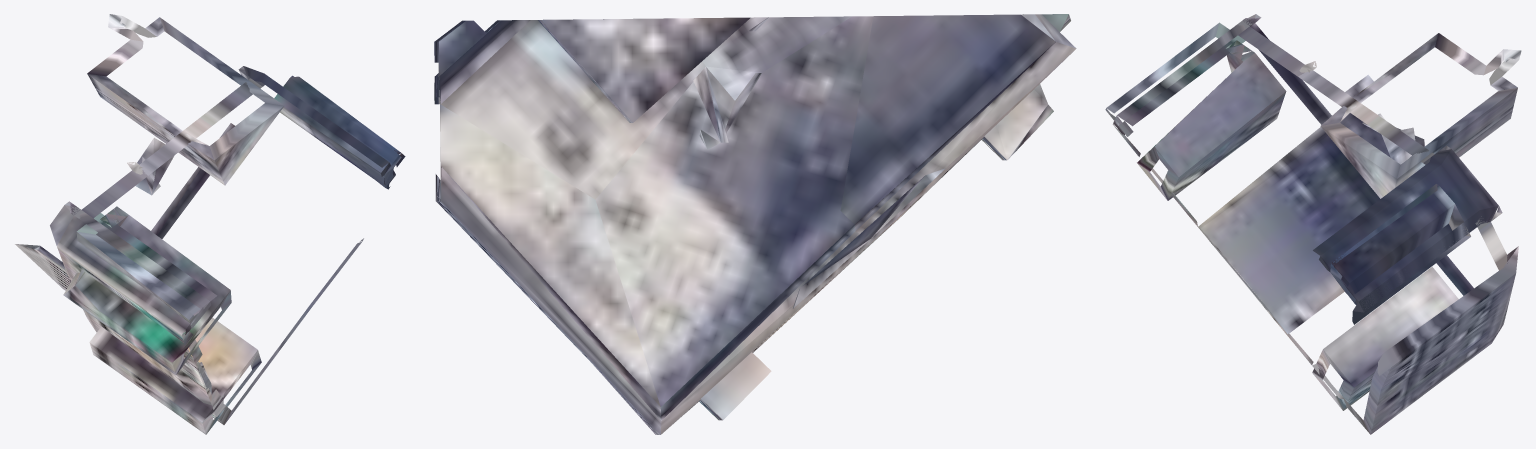
3 renders of one model, left to right at view 1: azimuth 30°, elevation 25°; view 2: azimuth 150°, elevation 25°; view 3: azimuth 270°, elevation 25°, orthographic. The views are drawn at different scales.
Bounding box in the file's own units: 28.7 × 24.65 × 25.45.
1 material, 1 textured.
